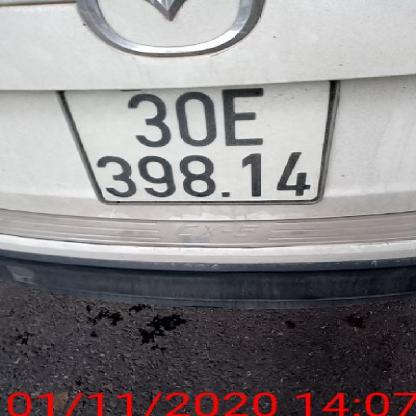biensoxe: (58, 85, 337, 208)
